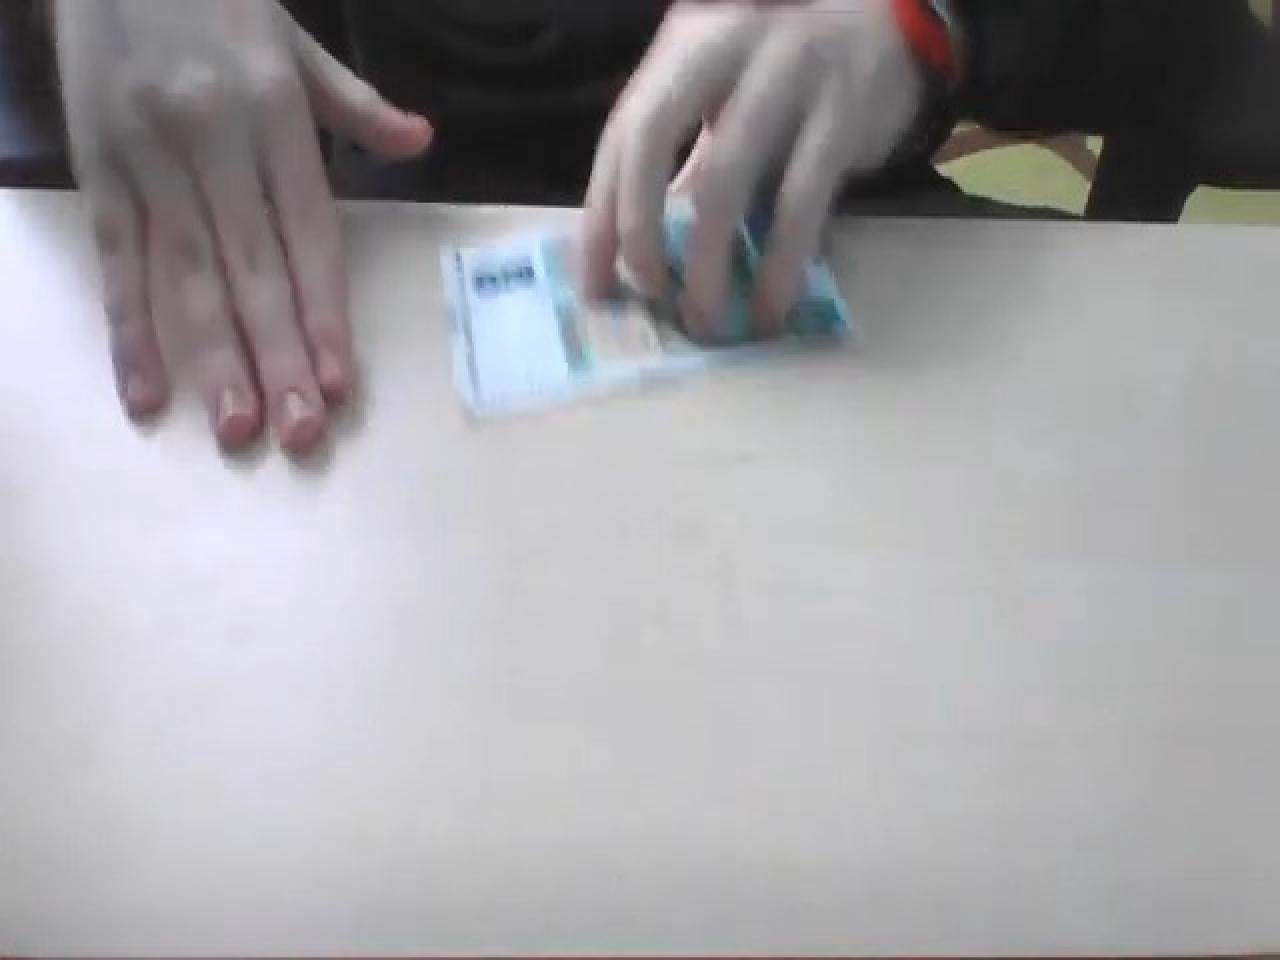100leva: (440, 211, 852, 422)
